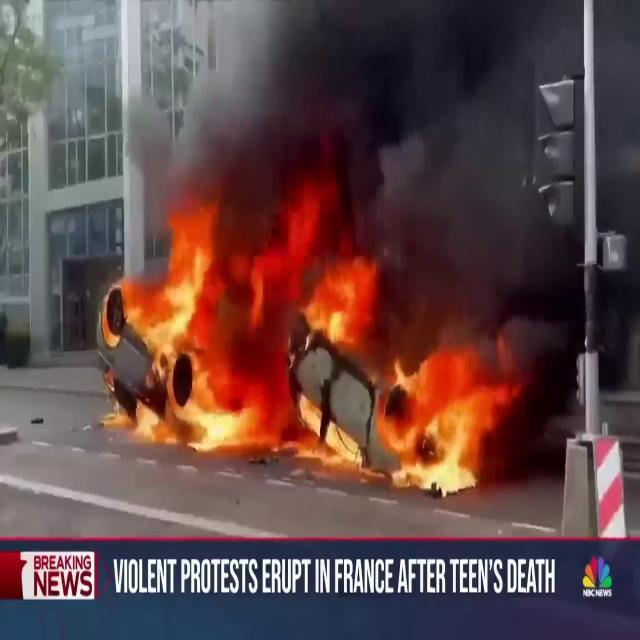Fire: (100, 189, 522, 483), (388, 336, 524, 500)
Smoke: (114, 1, 618, 292)
